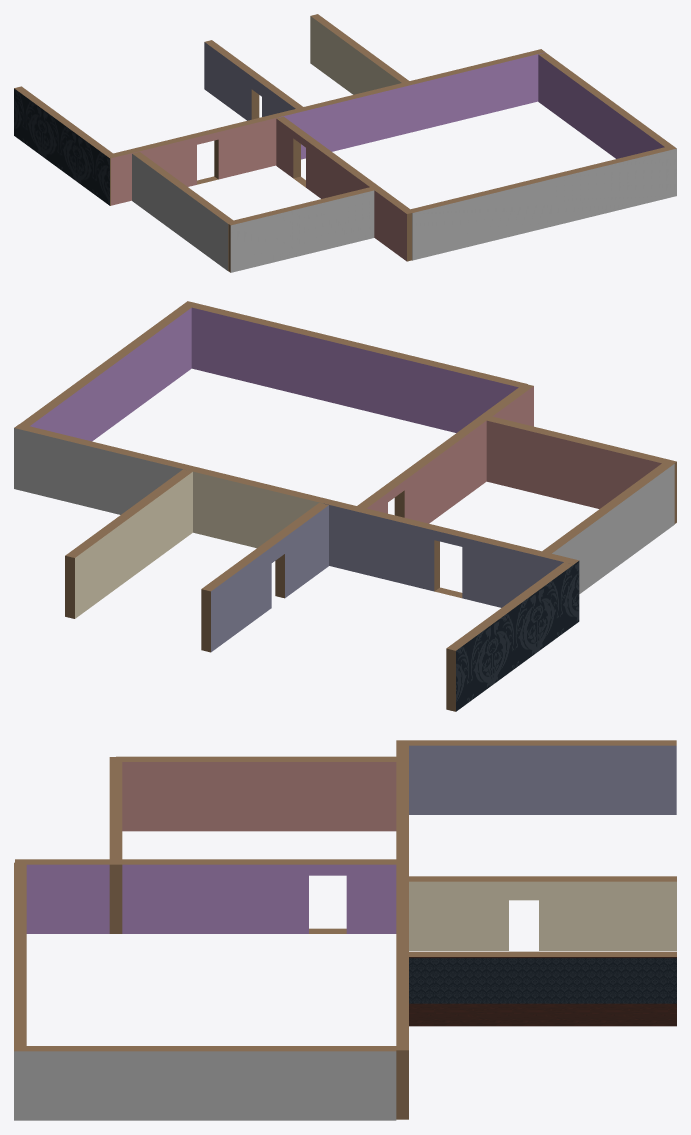
The model's file is Walls.fbx.
The picture shows the model from 3 angles, top to bottom: view 1: azimuth 30°, elevation 25°; view 2: azimuth 150°, elevation 25°; view 3: azimuth 270°, elevation 25°; orthographic projection. The views are drawn at different scales.
Visible parts, largest first — view 1: wall, wall__1_, wall__1__1, Wall__5_, Wall__3__1, Wall__4__2, Wall__3_, Wall__1_, Wall__2_; view 2: wall, wall__1_, wall__1__1, Wall__3__1, Wall__3_, Wall__1_, Wall__2_, Wall__5_, Wall__4__2; view 3: Wall__3__1, Wall__5_, Wall__4__2, Wall__1_, Wall__3_, Wall__2_, wall, wall__1__1, wall__1_.
Part boxes in pixels (x1,y1,x2,y2): wall: (107, 49, 545, 205); wall__1_: (411, 147, 676, 260); wall__1__1: (228, 187, 374, 272); Wall__5_: (276, 116, 413, 261); Wall__3__1: (538, 52, 676, 158); Wall__4__2: (132, 152, 235, 271); Wall__3_: (14, 86, 112, 205); Wall__1_: (310, 14, 409, 94); Wall__2_: (204, 40, 305, 159); wall: (14, 424, 577, 607); wall__1_: (191, 303, 527, 432); wall__1__1: (486, 416, 676, 523); Wall__3__1: (20, 301, 196, 441); Wall__3_: (446, 560, 579, 711); Wall__1_: (65, 469, 192, 618); Wall__2_: (201, 503, 328, 652); Wall__5_: (357, 383, 533, 523); Wall__4__2: (542, 461, 674, 593); Wall__3__1: (14, 1046, 396, 1120); Wall__5_: (15, 859, 396, 933); Wall__4__2: (116, 756, 396, 831); Wall__1_: (409, 951, 676, 1026); Wall__3_: (396, 740, 676, 814); Wall__2_: (409, 876, 676, 950); wall: (396, 741, 408, 1119); wall__1__1: (109, 757, 122, 933); wall__1_: (14, 862, 26, 1045).
Size of the model in its own units: 57.61 by 6.06 by 52.02.
